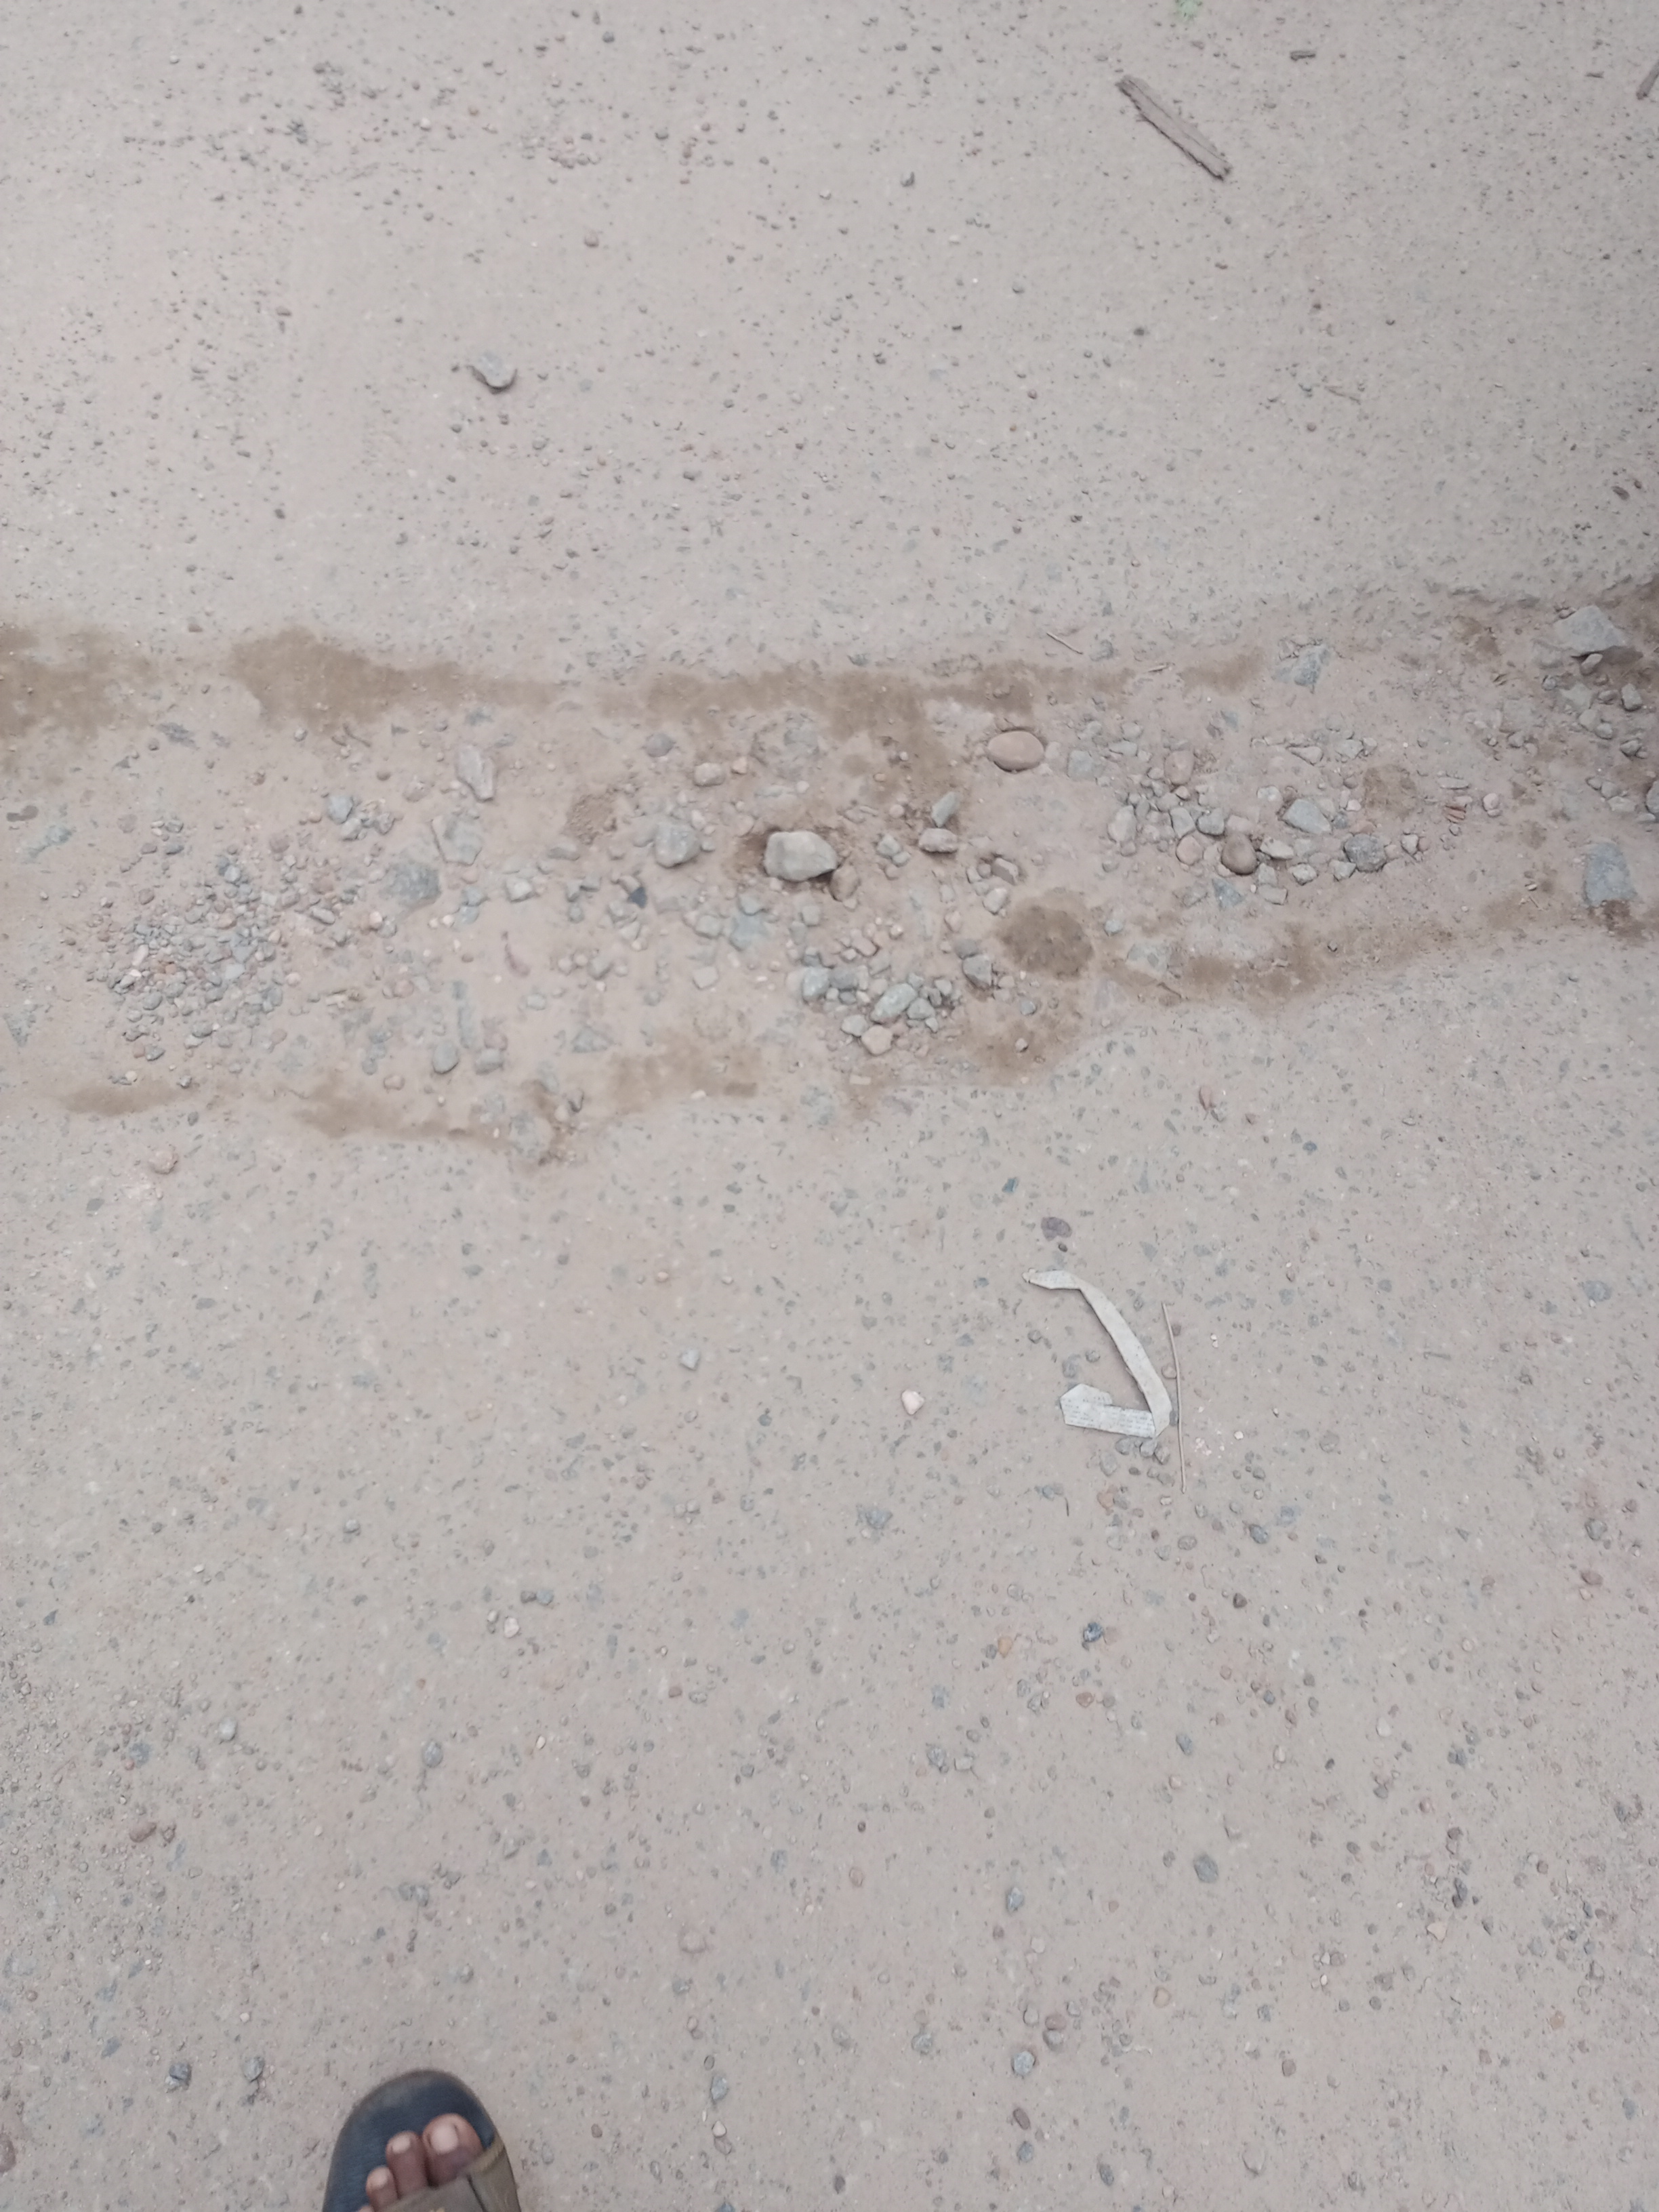potholes: (0, 566, 1647, 1163)
